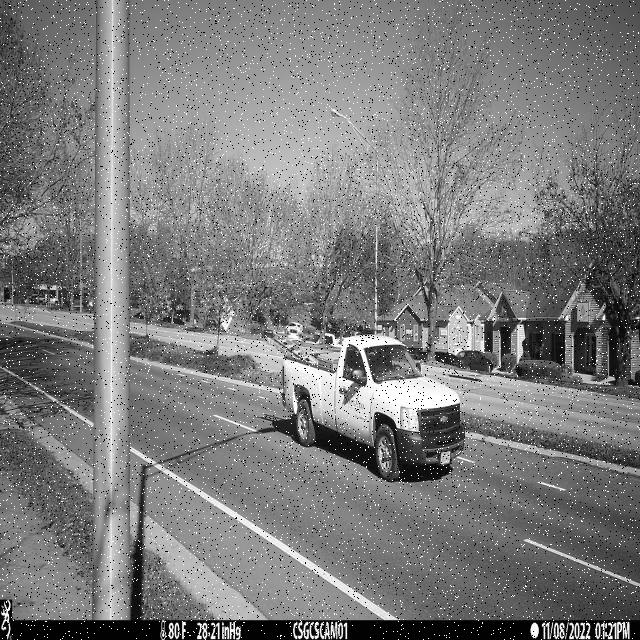Pickup: (280, 335, 466, 483)
